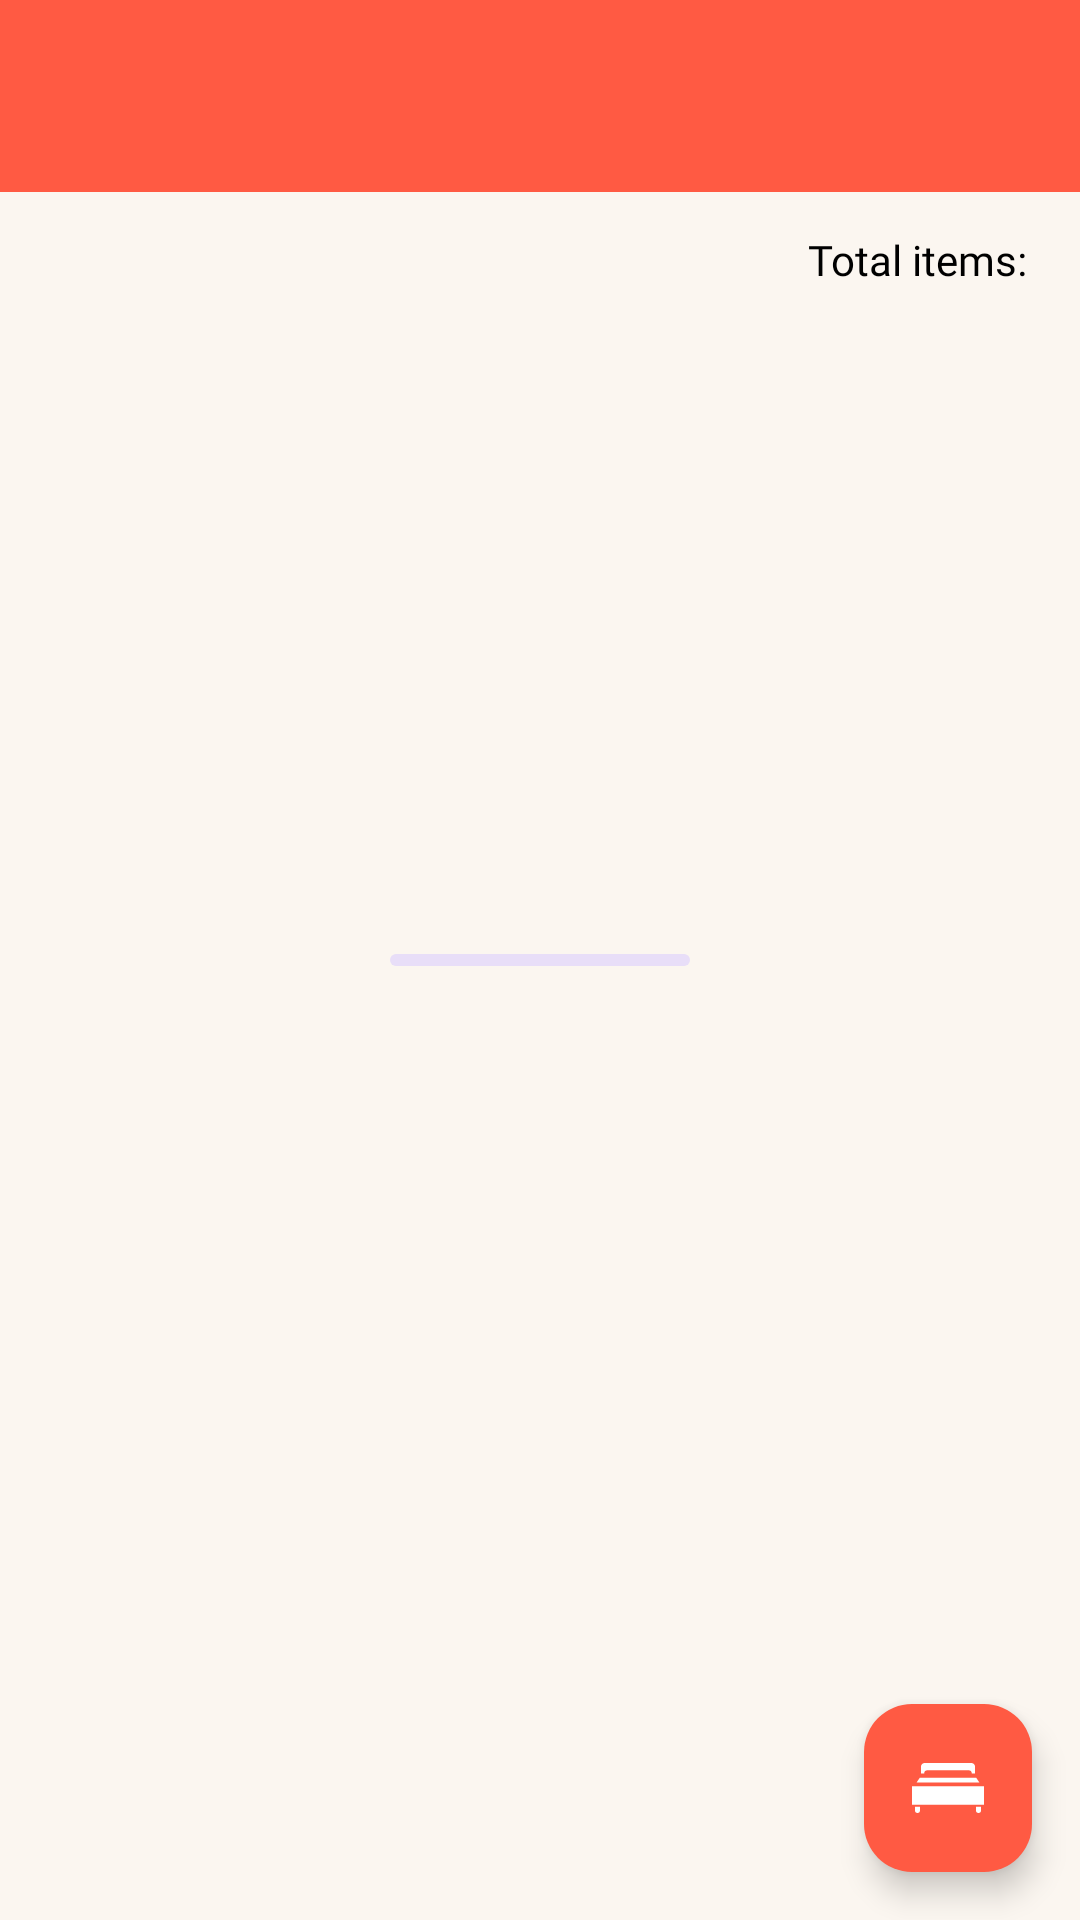

Named icons in this screenshot (1080w x 1920h) and their centers, (x,y):
bedroom: (948,1788)
